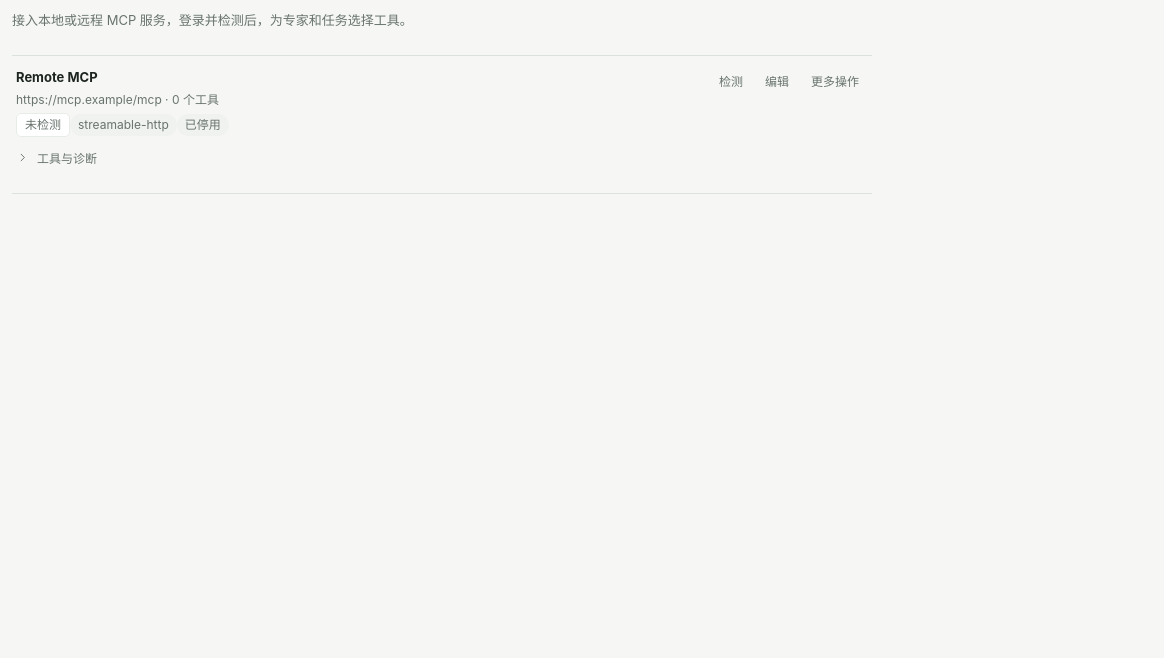
Test: MCP settings paths › keeps saved secrets write-only and preserves the form after a failed save
Click the button "编辑" at x=777, y=82, box [756, 68, 798, 96]
(page scrolled)
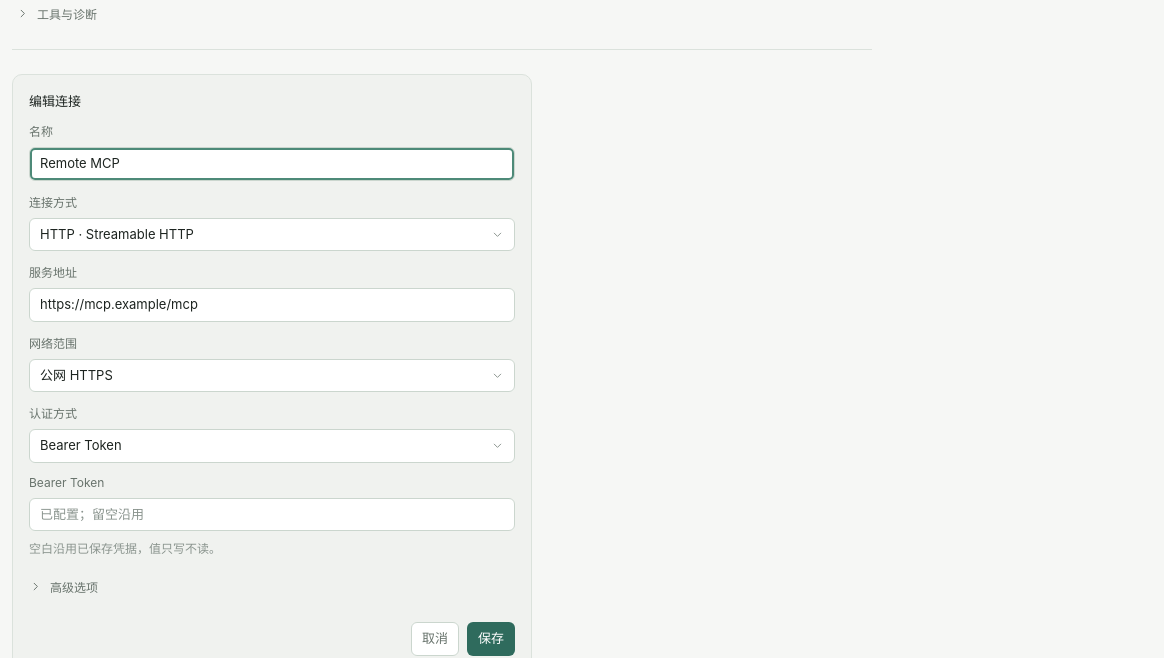
Expected: the password field labelled "Bearer Token" is empty, [29, 498, 515, 531]
Click the button "保存" at x=491, y=639, box [467, 622, 515, 656]
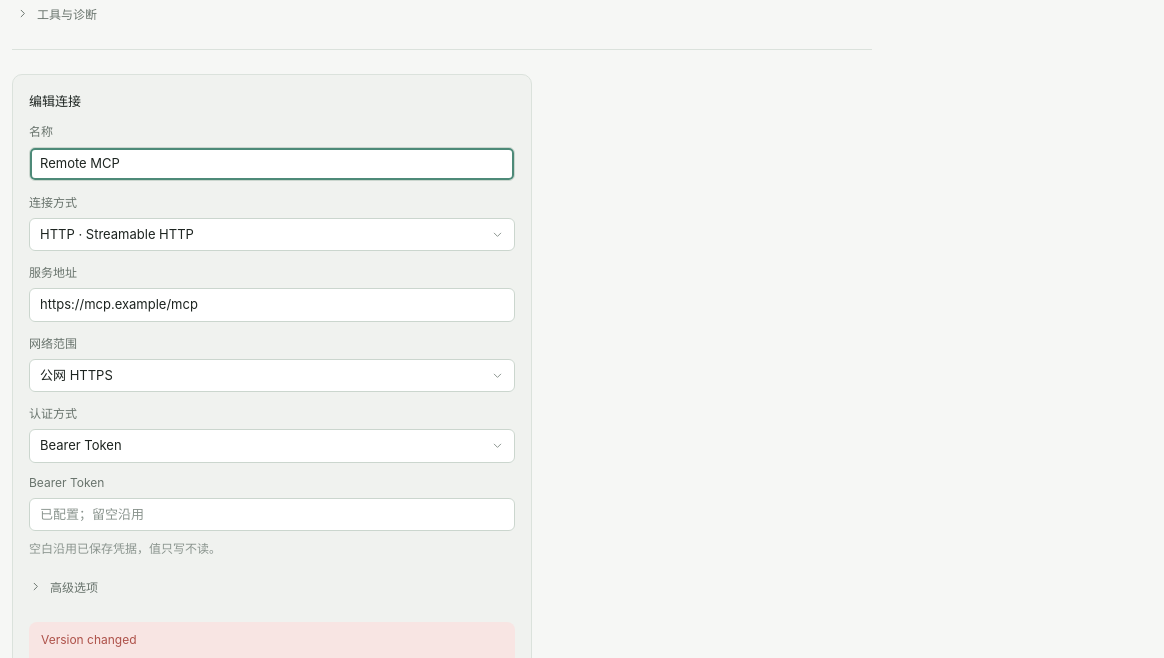
Expected: the field showing "https://mcp.example/mcp" is shown, [29, 288, 515, 322]
Expected: the message shows "Version changed", [41, 632, 137, 647]
